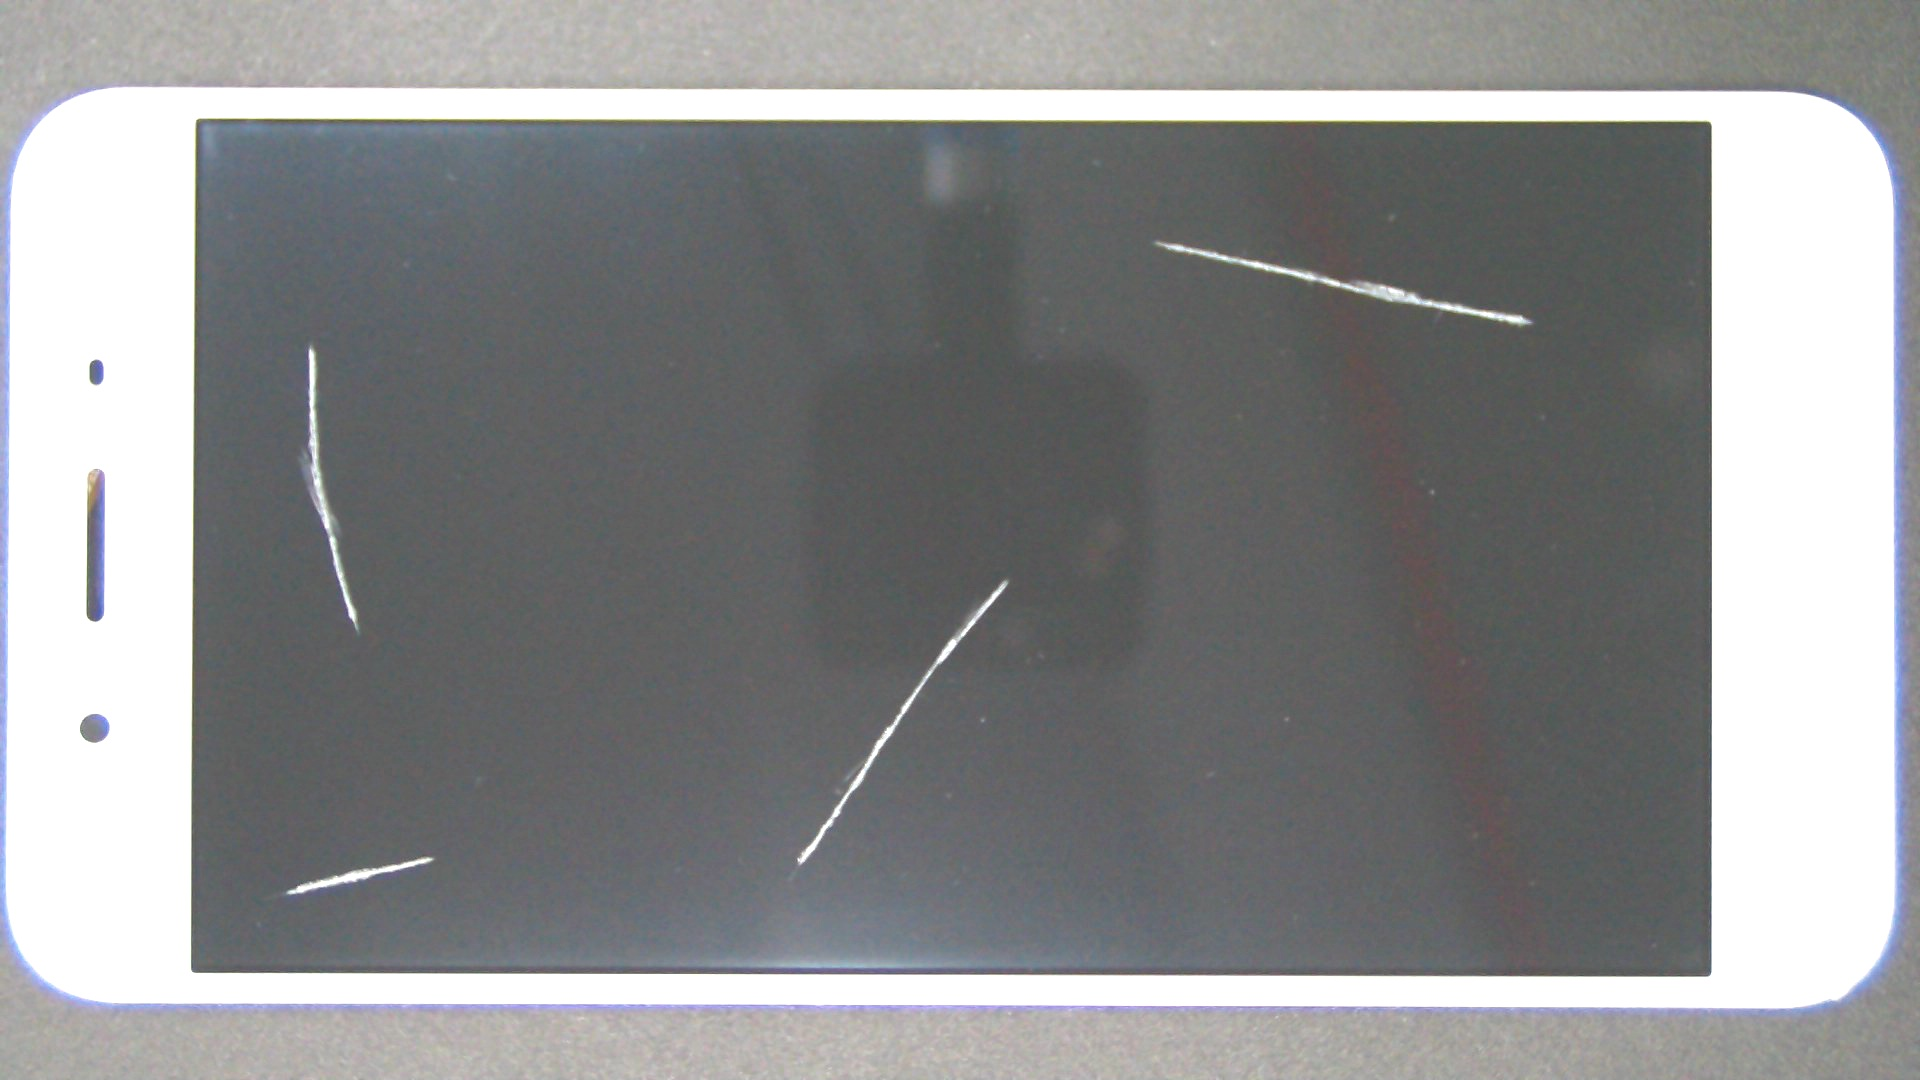oil: (504, 289, 1510, 868), (579, 119, 1735, 359), (212, 427, 634, 1080), (154, 171, 463, 517)
